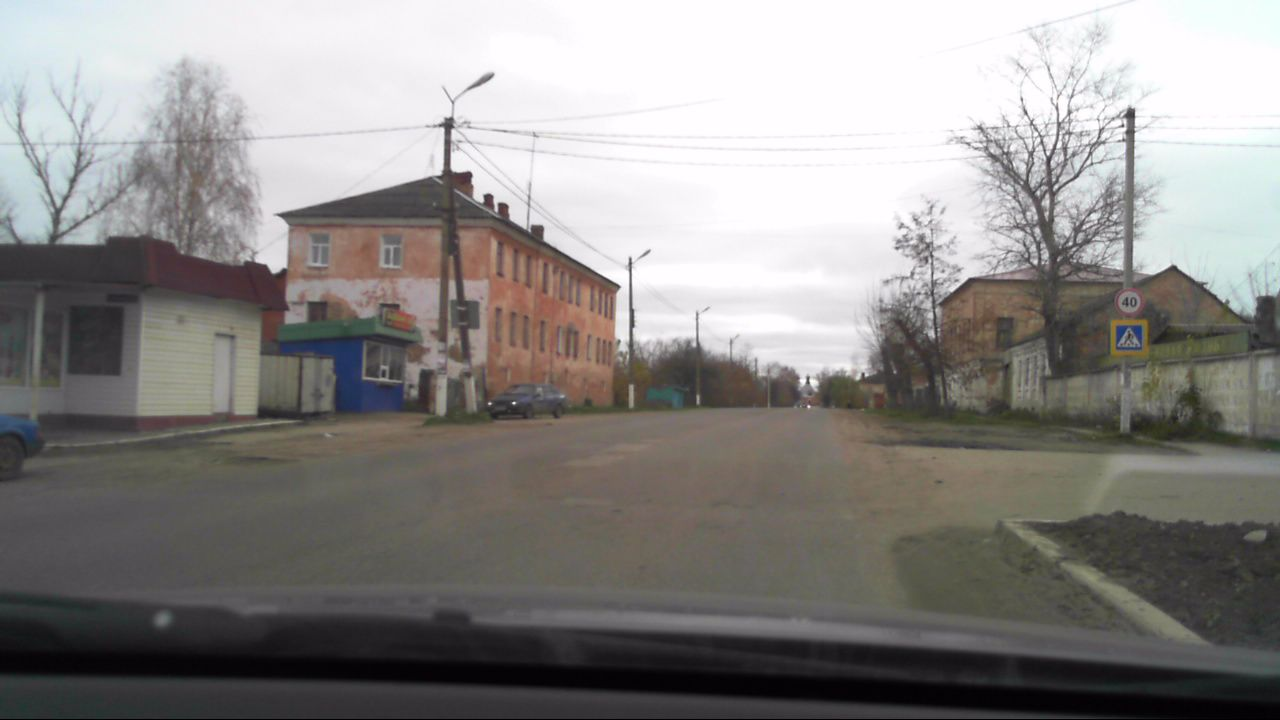speed_warning_40: (1115, 288, 1144, 316)
